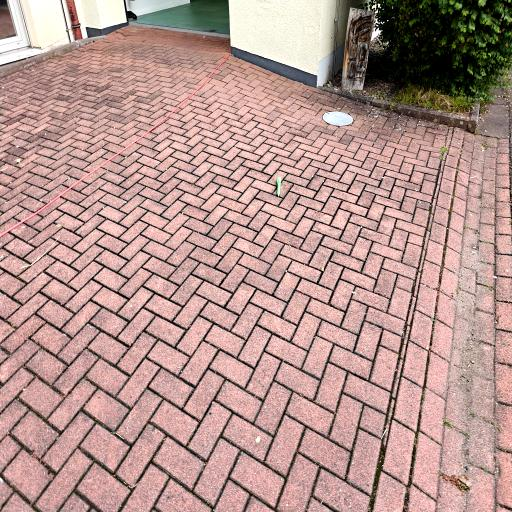Probe-Detection: (277, 177, 282, 197)
